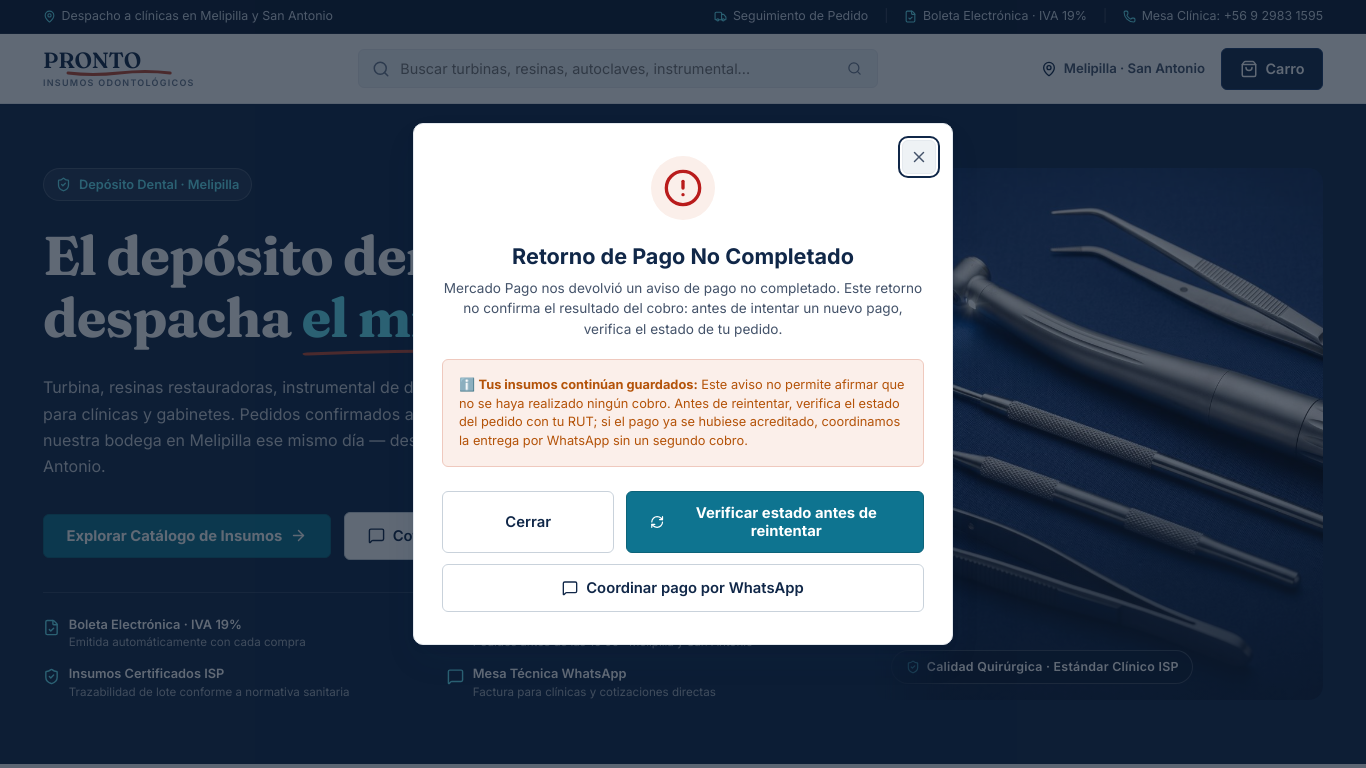
Test: App Mercado Pago Return Flow Handling › should open the tracking flow from a failure return with the order id prefilled
Expected: the heading "Retorno de Pago No Completado" is shown, top-left (512, 243), bottom-right (854, 269)
Click the button "Verificar estado antes de reintentar" at (775, 522), box top-left (626, 491), bottom-right (924, 553)
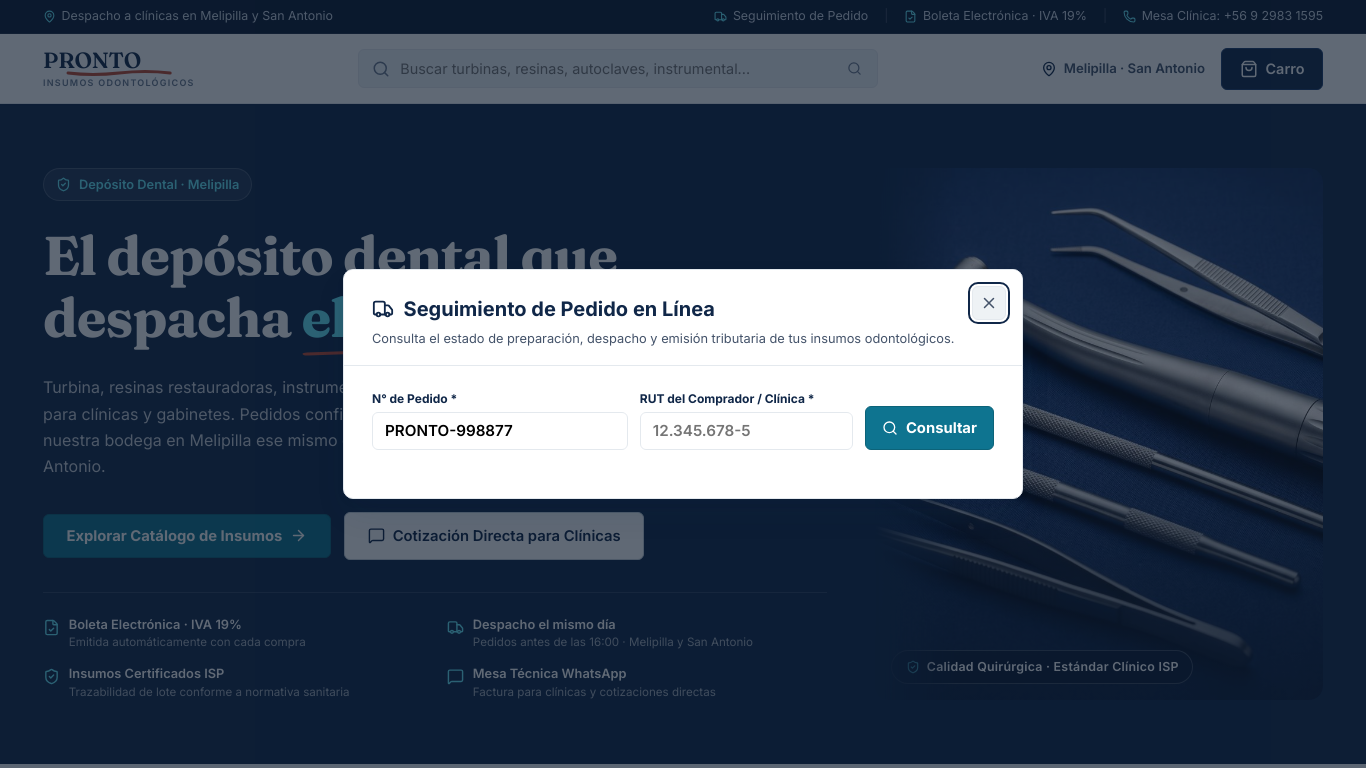
Result: the heading "Seguimiento de Pedido en Línea" is shown at top-left (404, 294), bottom-right (715, 324)
Result: the heading "Retorno de Pago No Completado" is gone
Result: the field labelled "N° de Pedido *" holds "PRONTO-998877" at top-left (372, 412), bottom-right (628, 450)
